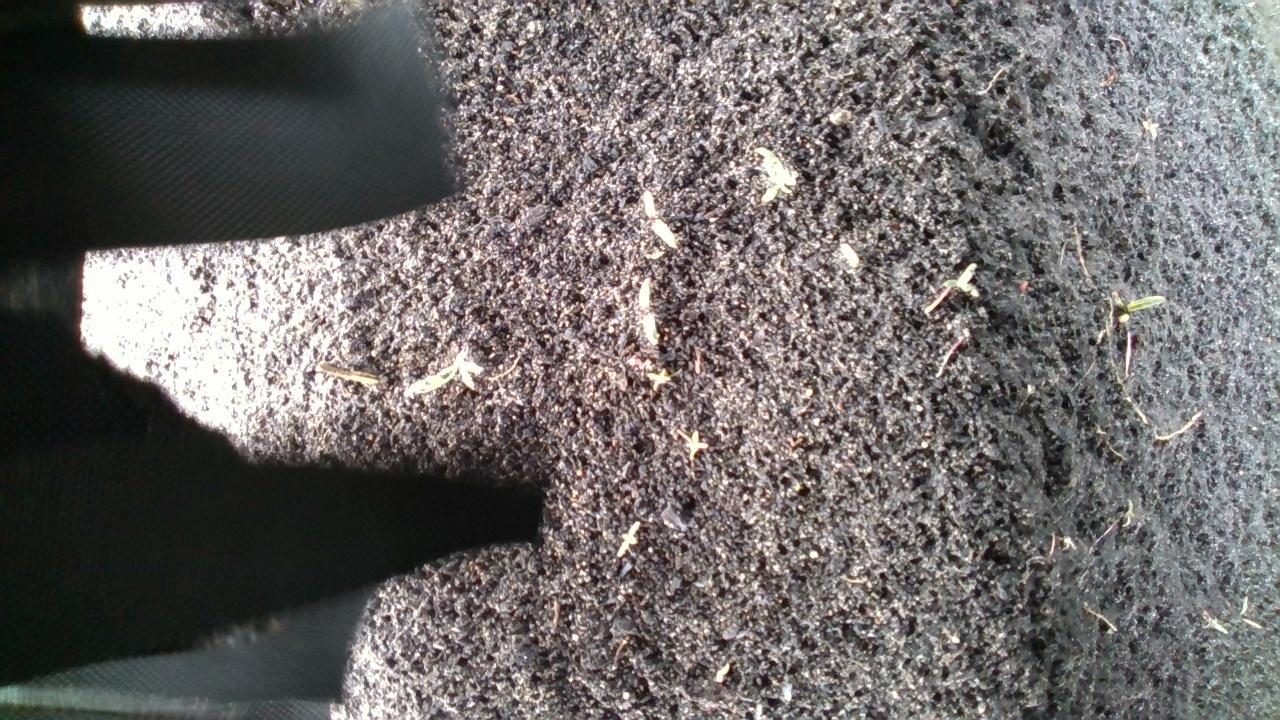weed: (626, 186, 701, 263), (1100, 283, 1147, 332), (632, 274, 662, 346), (673, 427, 710, 460), (615, 519, 642, 557), (645, 366, 671, 389)
